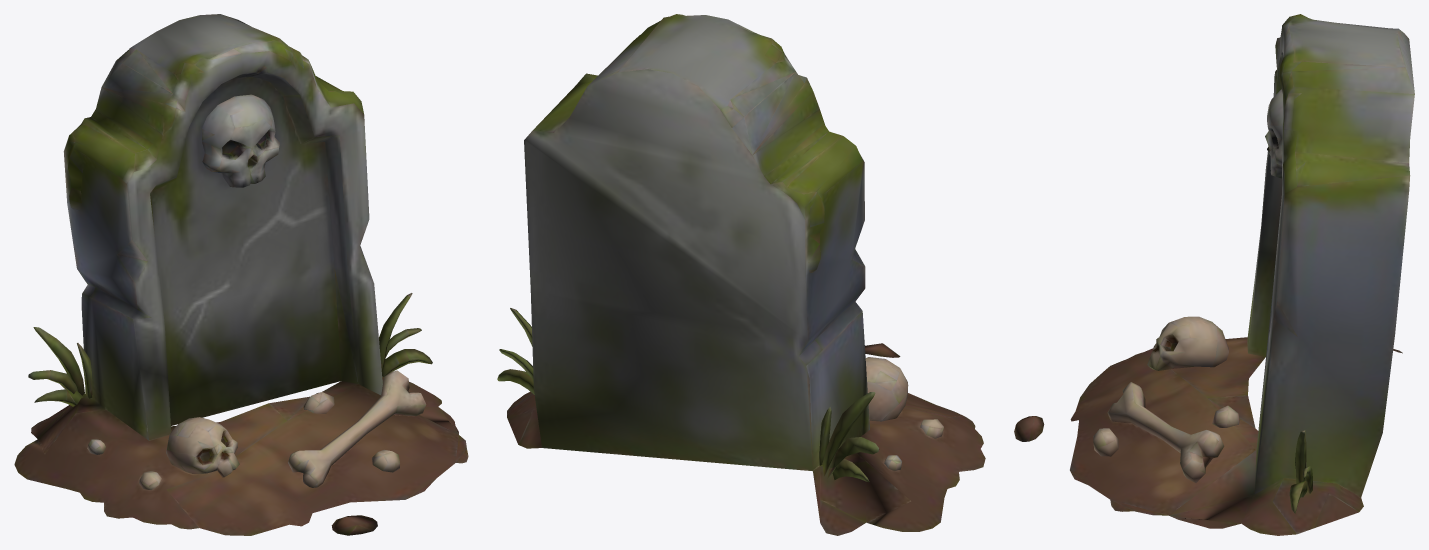
File: tomb.glb
The picture shows the model from 3 angles, left to right: view 1: azimuth 30°, elevation 25°; view 2: azimuth 150°, elevation 25°; view 3: azimuth 270°, elevation 25°; orthographic projection. The views are drawn at different scales.
Parts seen in each view (by area): view 1: tomb; view 2: tomb; view 3: tomb.
Boxes of the visible parts, <box> form: tomb: <box>14,14,468,535</box>; tomb: <box>497,14,985,535</box>; tomb: <box>1014,14,1414,535</box>.
Size of the model in its own units: 1.12 by 1.05 by 0.9278.
1 material, 1 textured.
